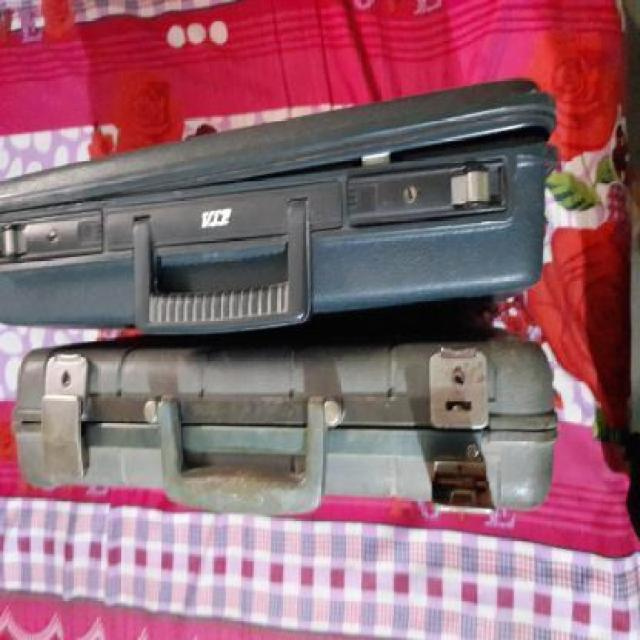backpack: (0, 75, 560, 340), (6, 323, 563, 517)
